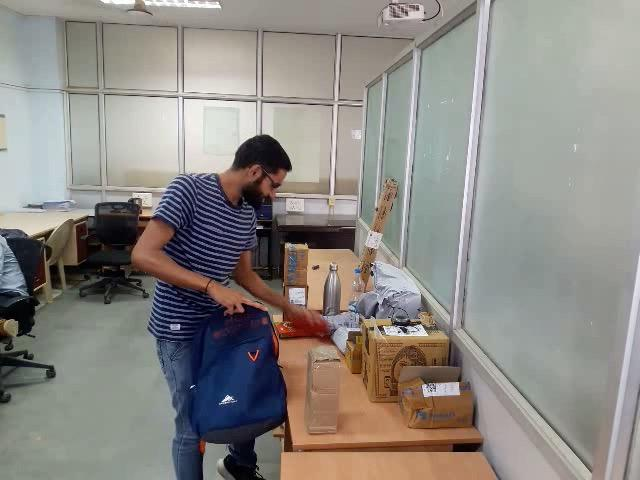shoplifting: (97, 241, 403, 463)
